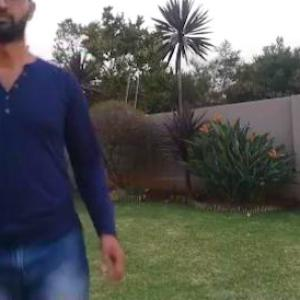follow: (1, 0, 95, 299)
